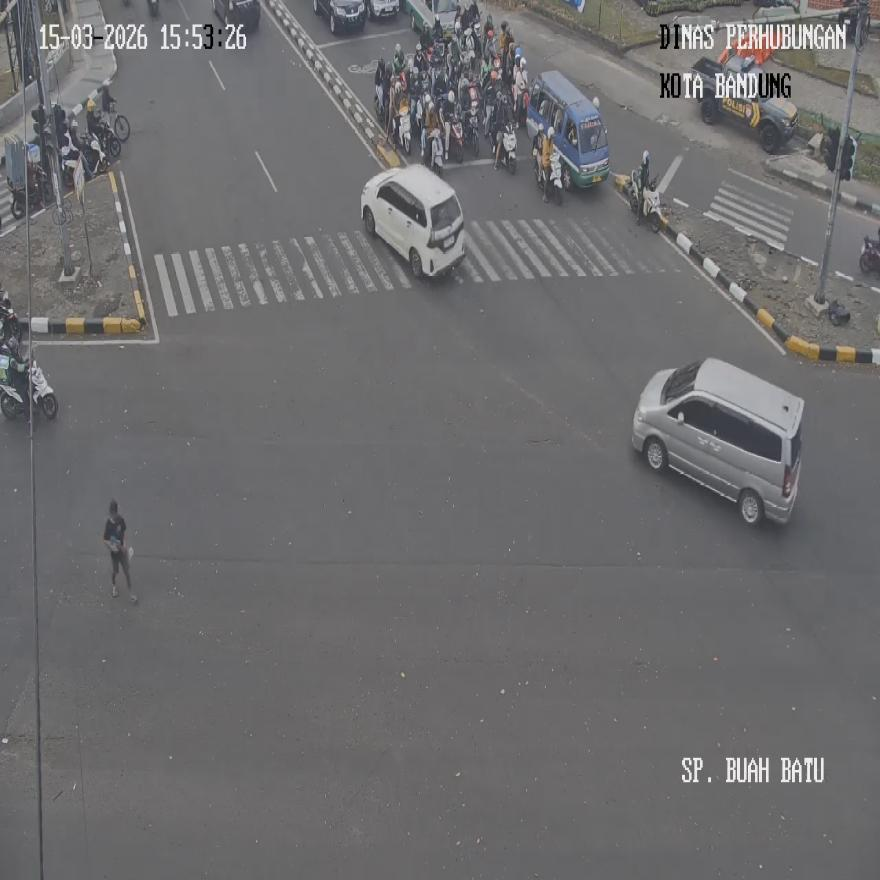Motor: (632, 356, 804, 526), (360, 165, 465, 277), (692, 48, 798, 152), (526, 70, 609, 190)
Truk: (0, 357, 58, 420), (64, 133, 109, 188), (626, 169, 663, 232), (88, 119, 121, 166), (536, 150, 563, 204), (99, 100, 130, 141), (494, 124, 517, 172), (390, 105, 412, 155), (858, 231, 880, 274), (425, 124, 443, 174), (464, 111, 481, 158), (374, 59, 387, 118), (448, 118, 464, 162), (148, 0, 159, 16)
